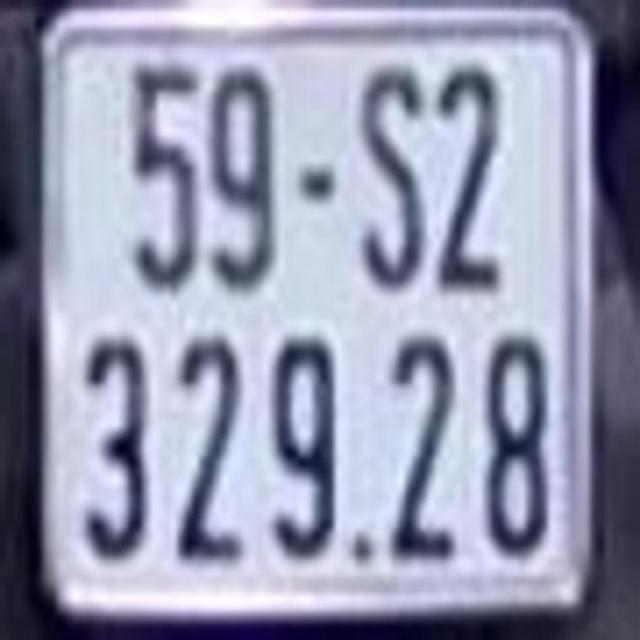2: (384, 332, 460, 558), (436, 66, 507, 284), (176, 331, 243, 559)
3: (82, 337, 144, 561)
5: (131, 56, 197, 282)
8: (485, 335, 548, 548)
9: (272, 336, 334, 559), (210, 64, 273, 283)
S: (356, 63, 427, 284)
